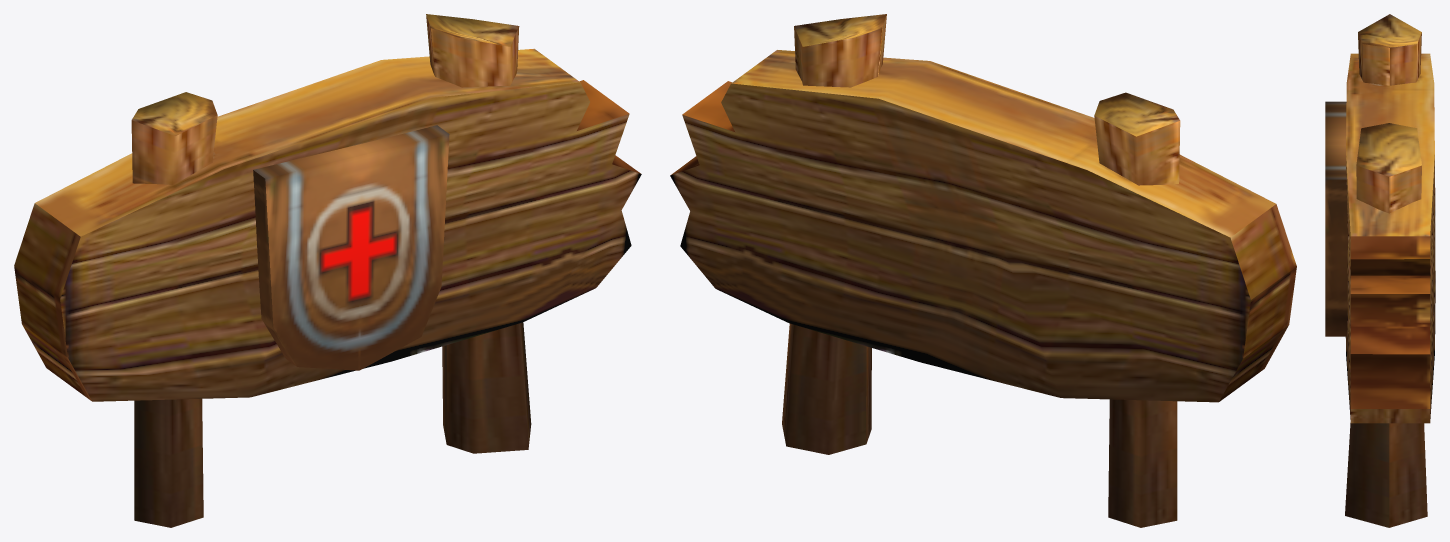
The model's file is Lubiao04.FBX.
3 views of the same model, side by side, from view 1: azimuth 30°, elevation 25°; view 2: azimuth 150°, elevation 25°; view 3: azimuth 270°, elevation 25° (orthographic). The views are drawn at different scales.
Visible parts, largest first — view 1: Lubiao04; view 2: Lubiao04; view 3: Lubiao04.
Part boxes in pixels (x1=…): Lubiao04: x1=14, y1=14, x2=641, y2=527; Lubiao04: x1=670, y1=14, x2=1296, y2=527; Lubiao04: x1=1325, y1=14, x2=1435, y2=527.
Size of the model in its own units: 1.33 by 0.9219 by 0.2538.
